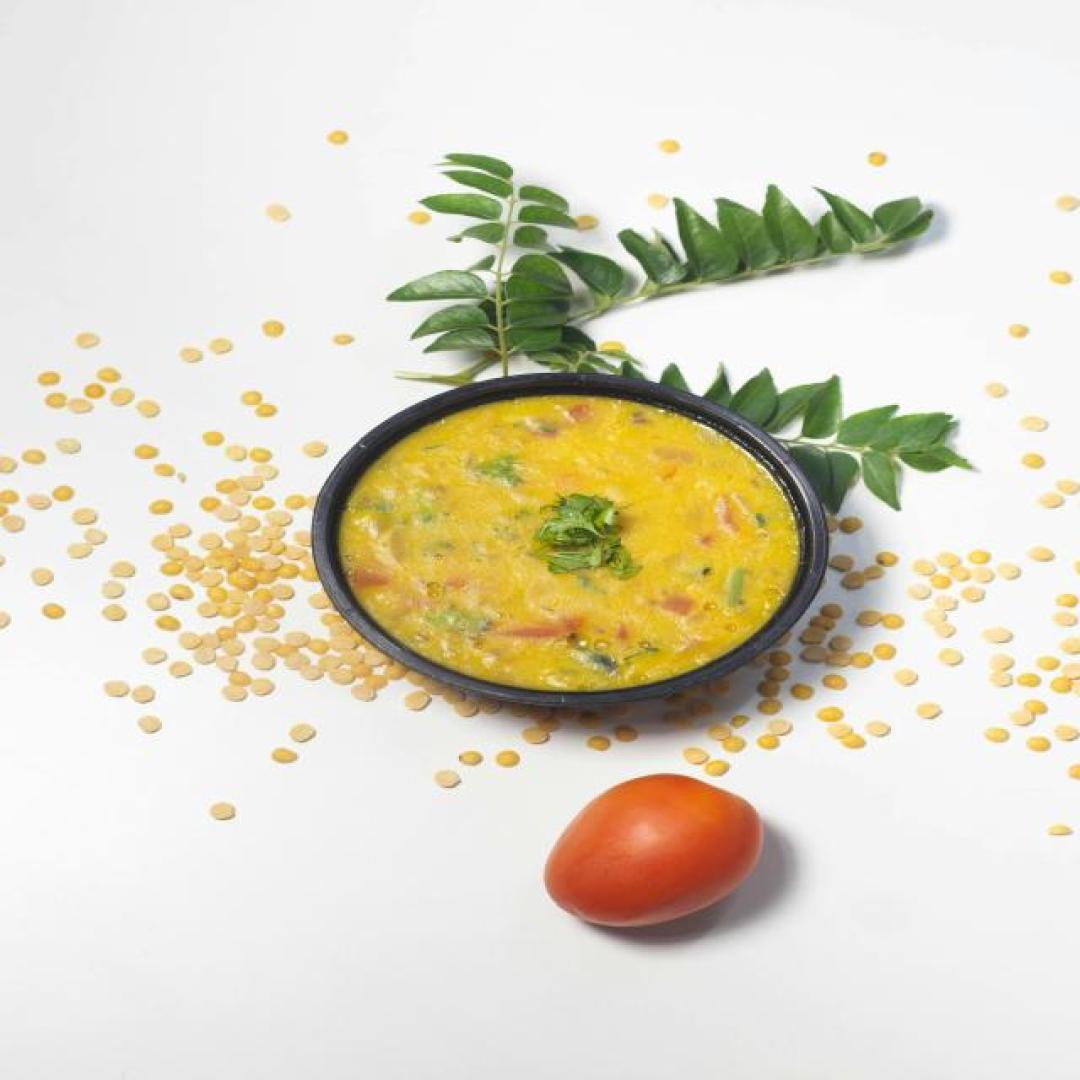matang: (543, 775, 764, 928)
